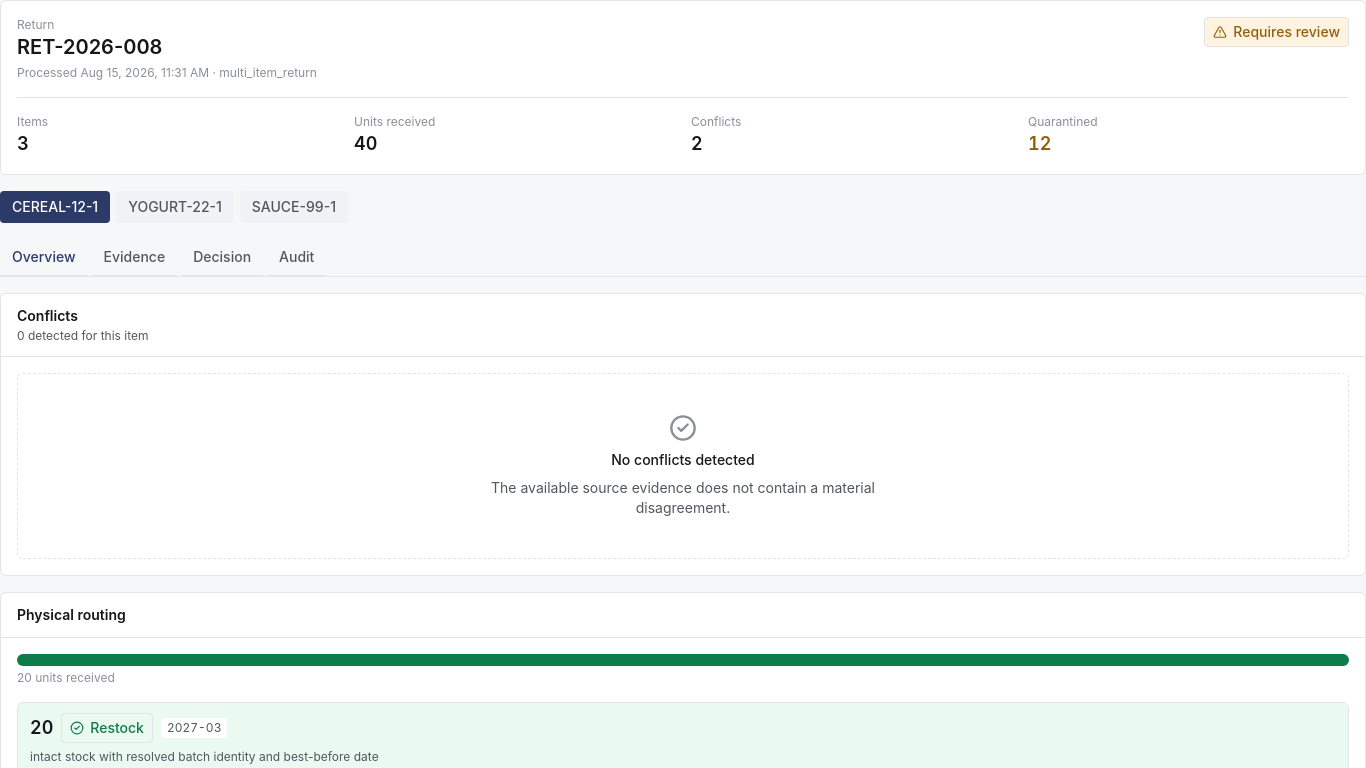
multi-item item switcher › shows each item's own decision and never a previous item's leftover state
This screenshot has width=1366, height=768.
Expected: the heading "RET-2026-008" is shown, [17,35,162,59]
Expected: the text "Requires review" is shown, [1204,17,1349,47]
Note: --- switch to Item B: unsafe damage, safety override, SCRAP ---
Click the button "YOGURT-22-1". click: (175, 207)
box: [116,191,234,223]
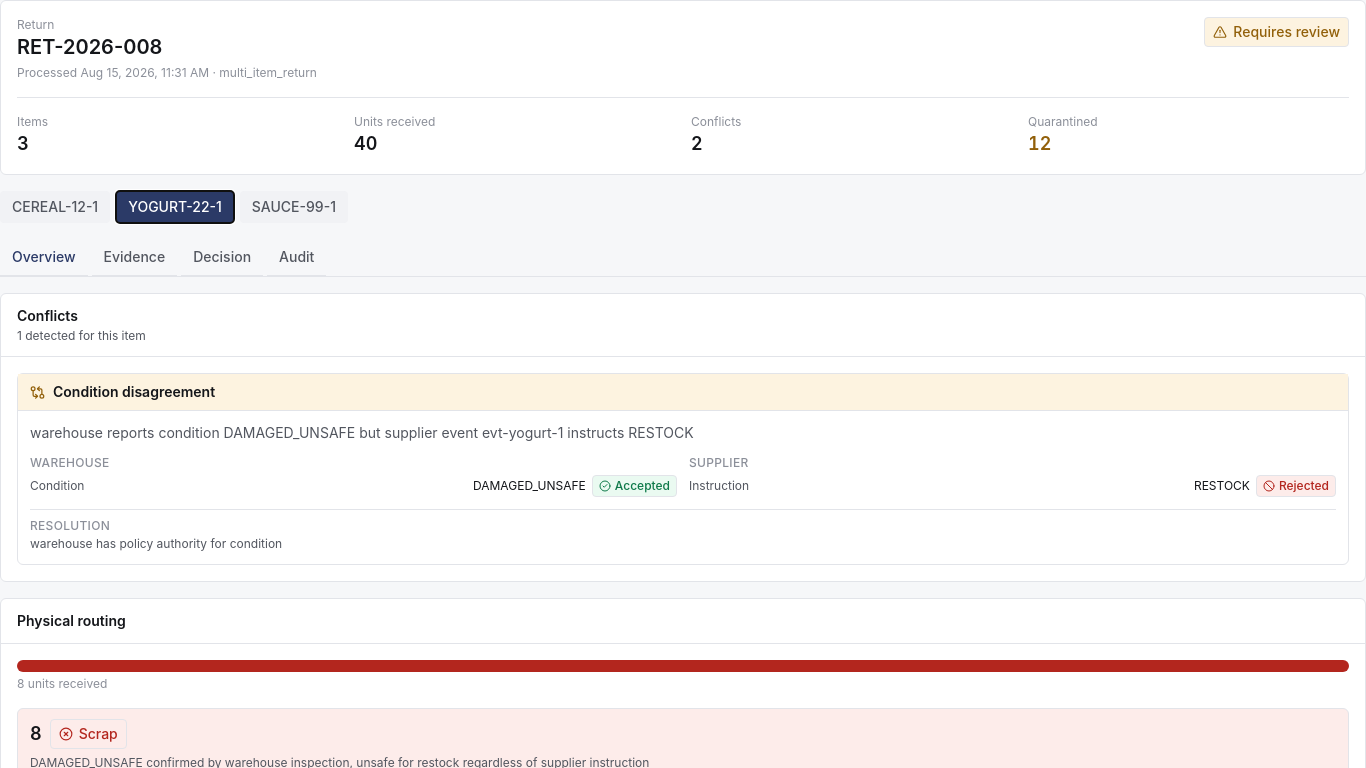
Expected: the text "1 detected for this item" is shown, [17,328,146,344]
Expected: the text "8" is shown, [30,720,42,748]
Expected: the text "Scrap" is shown, [50,719,127,749]
Note: --- switch to Item C: unresolved identity, QUARANTINE ---
Click the button "SAUCE-99-1". click: (294, 207)
box: [240,191,348,223]
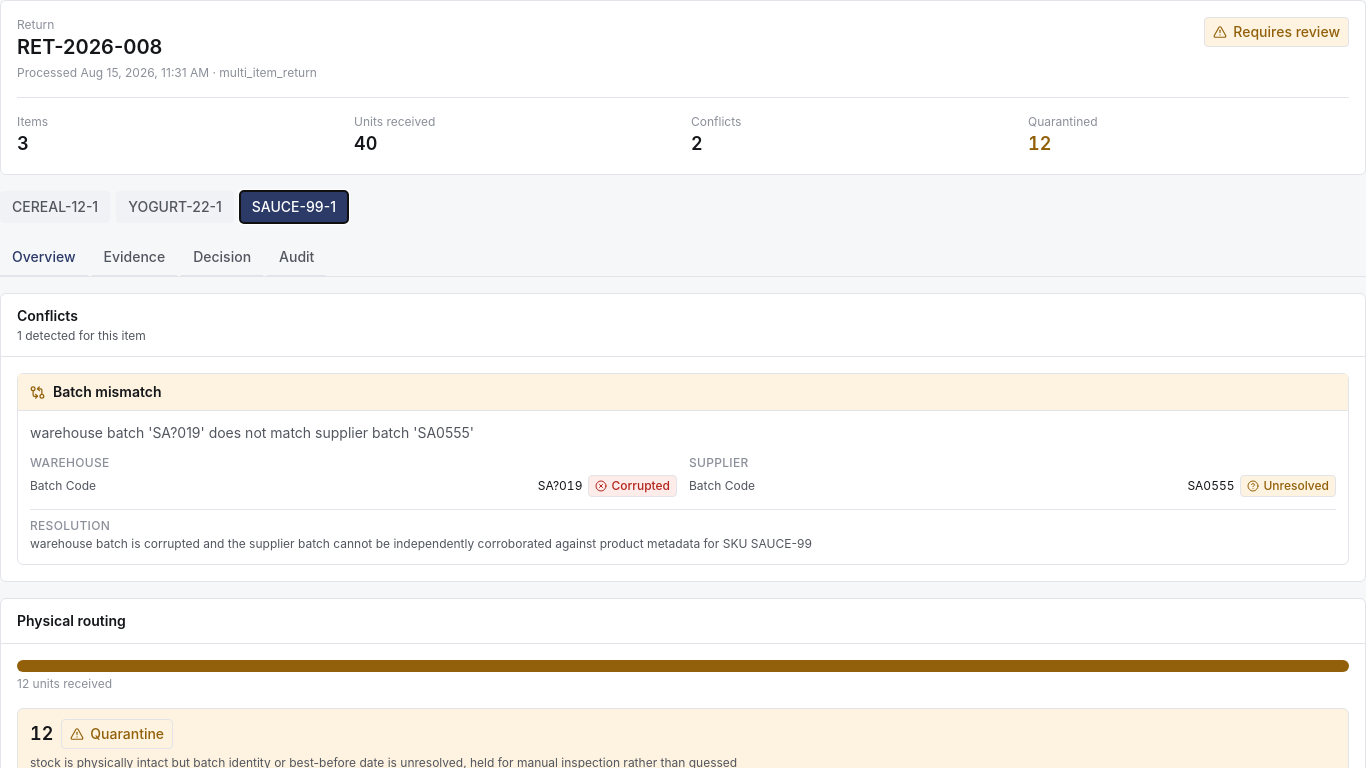
Expected: the text "1 detected for this item" is shown, [17,328,146,344]
Expected: the 2nd text "12" is shown, [30,720,53,748]
Expected: the text "Quarantine" is shown, [61,719,173,749]
Note: --- switch back to Item A: confirm no state stuck from item C ---
Click the button "CEREAL-12-1". click: (55, 207)
box: [0,191,110,223]
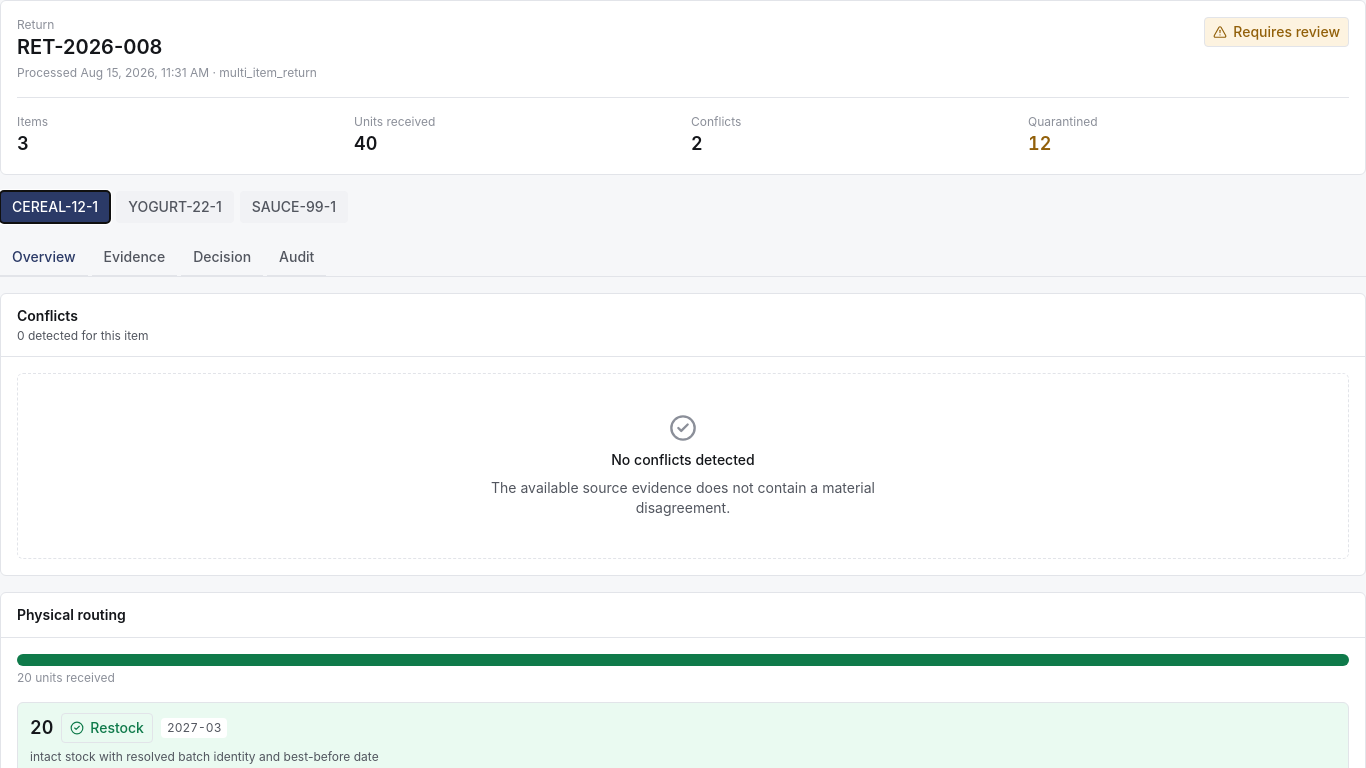
Expected: the text "0 detected for this item" is shown, [17,328,148,344]
Expected: the text "20" is shown, [30,714,53,742]
